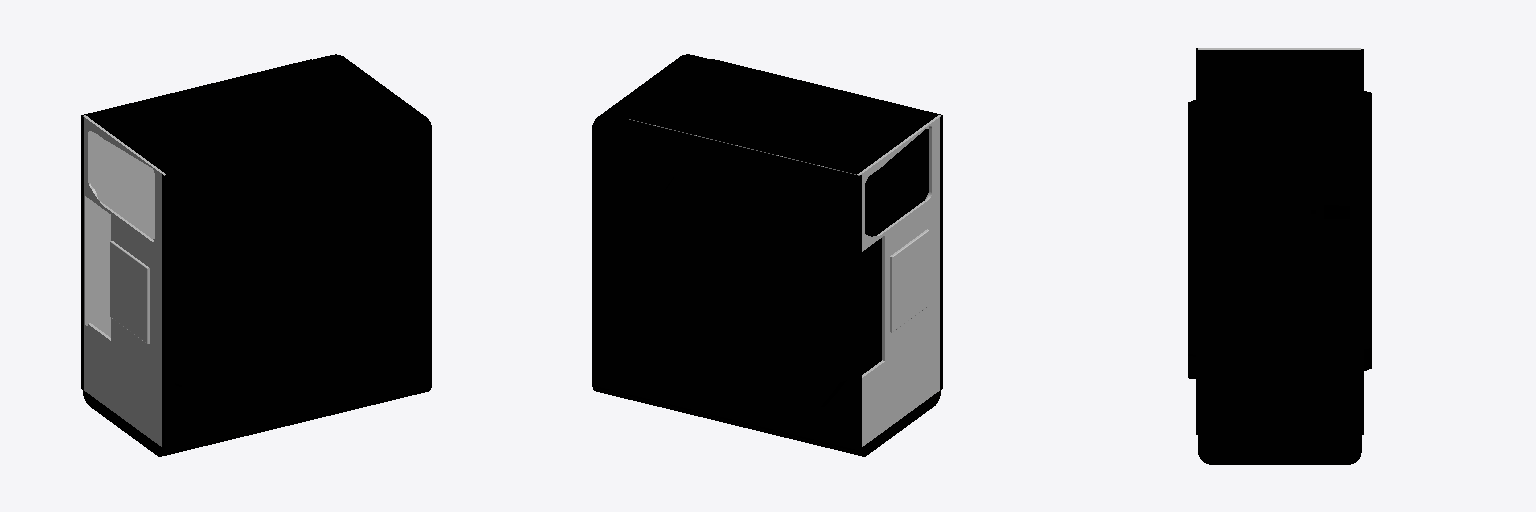
Rendered from Gabinete.obj.
3 views of the same model, side by side, from view 1: azimuth 30°, elevation 25°; view 2: azimuth 150°, elevation 25°; view 3: azimuth 270°, elevation 25° (orthographic).
Visible parts, largest first — view 1: Cubo.017_Cubo.019, Cubo.015_Cubo.017, Cubo.002_Cubo.004, Cubo.003_Cubo, Cubo.001_Cubo.002, Cubo_Cubo.003, Cubo.016_Cubo.018; view 2: Cubo.014_Cubo.016, Cubo.016_Cubo.018, Cubo.003_Cubo, Cubo.002_Cubo.004, Cubo.001_Cubo.002, Cubo_Cubo.003, Cubo.015_Cubo.017; view 3: Cubo.001_Cubo.002, Cubo.003_Cubo, Cubo.014_Cubo.016, Cubo.017_Cubo.019, Cubo.016_Cubo.018, Cubo.015_Cubo.017.
Part boxes in pixels (x1,y1,x2,y2): Cubo.017_Cubo.019: (175,168,360,417); Cubo.015_Cubo.017: (162,119,395,449); Cubo.002_Cubo.004: (83,115,165,446); Cubo.003_Cubo: (86,59,395,174); Cubo.001_Cubo.002: (315,54,431,399); Cubo_Cubo.003: (83,391,394,456); Cubo.016_Cubo.018: (81,59,311,390); Cubo.014_Cubo.016: (663,161,848,408); Cubo.016_Cubo.018: (628,120,861,449); Cubo.003_Cubo: (628,59,937,372); Cubo.002_Cubo.004: (629,115,940,446); Cubo.001_Cubo.002: (592,54,708,399); Cubo_Cubo.003: (629,372,940,456); Cubo.015_Cubo.017: (711,59,942,390); Cubo.001_Cubo.002: (1198,161,1361,464); Cubo.003_Cubo: (1198,50,1360,161); Cubo.014_Cubo.016: (1364,91,1371,370); Cubo.017_Cubo.019: (1188,100,1195,378); Cubo.016_Cubo.018: (1361,49,1363,434); Cubo.015_Cubo.017: (1196,48,1197,434).
Size of the model in its own units: 3.82 by 3.86 by 2.25.